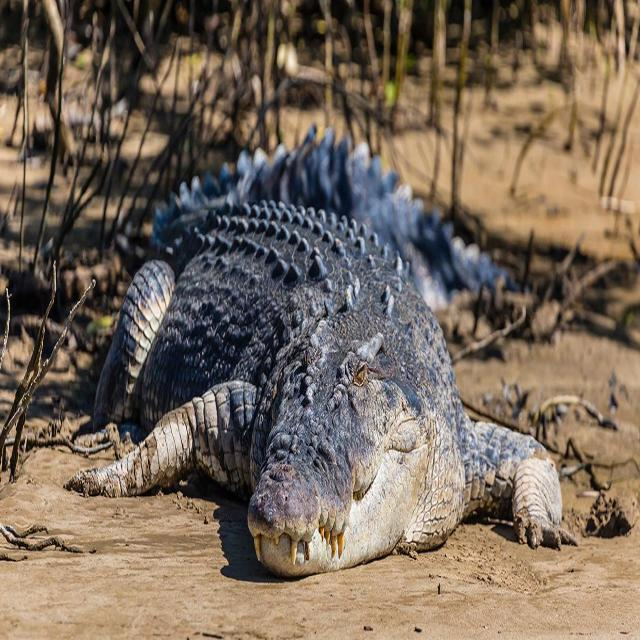crocodile: (57, 118, 588, 622)
